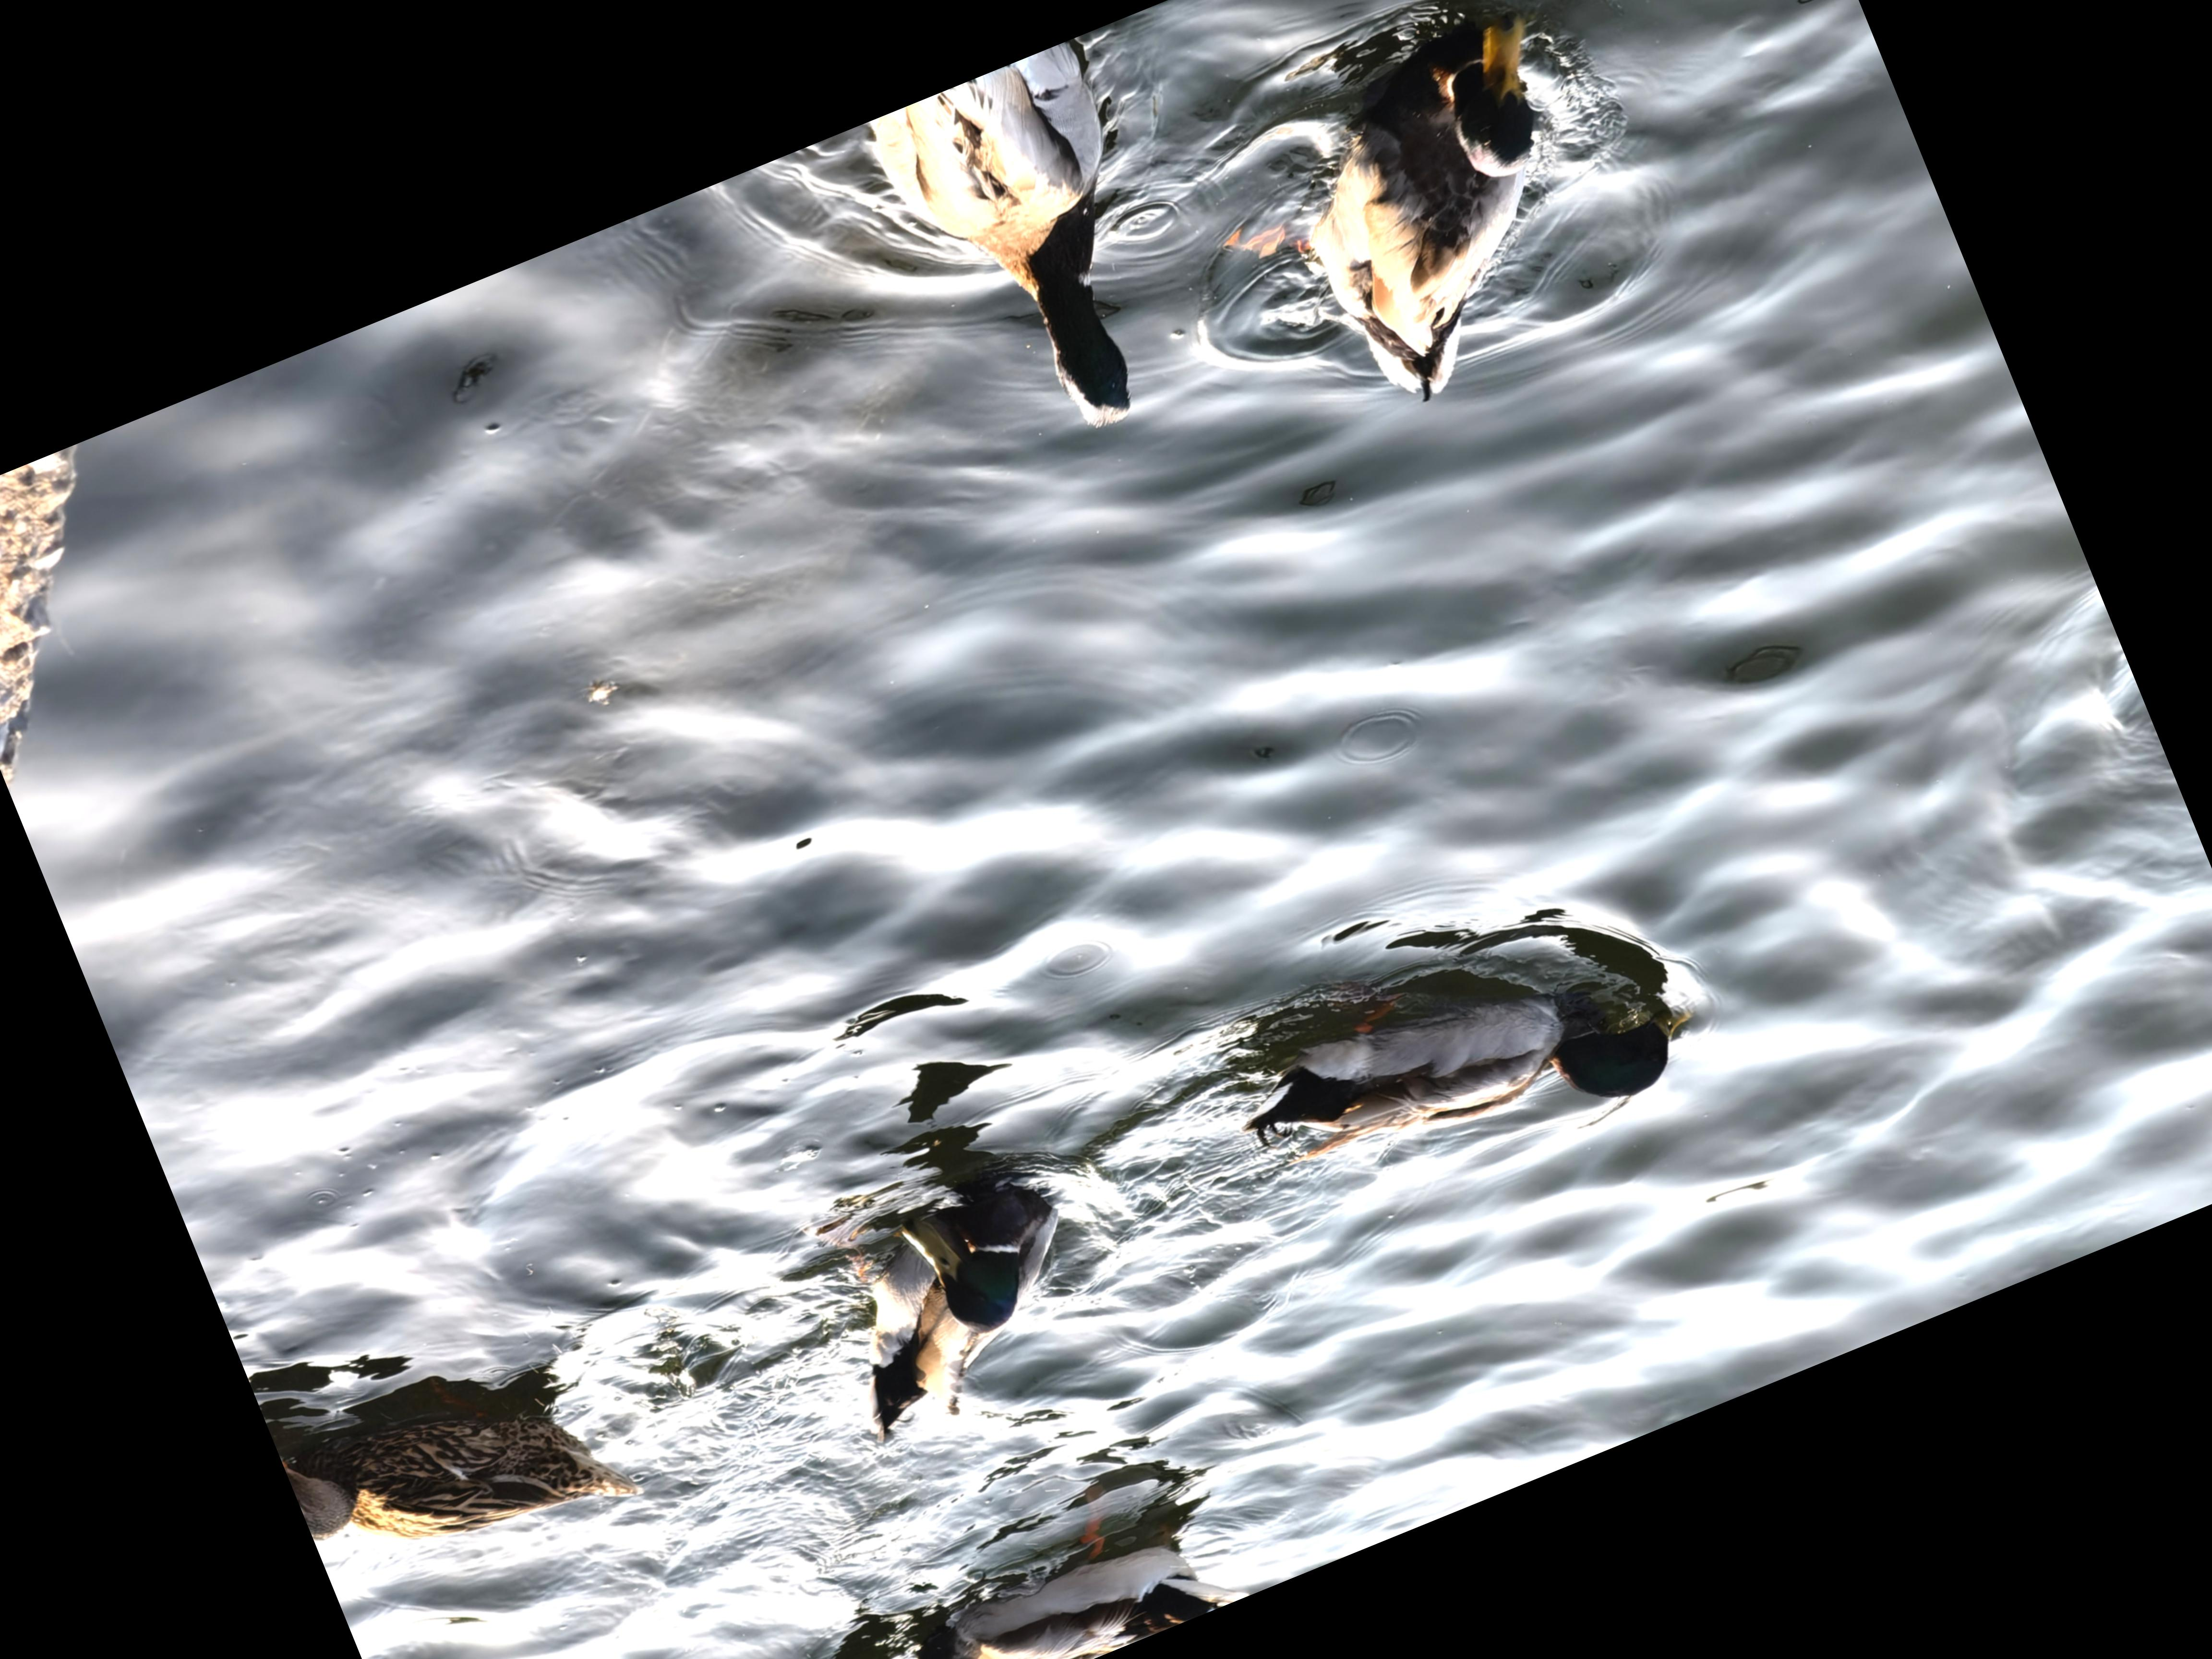duck: (1224, 0, 1691, 439), (824, 31, 1231, 497), (1224, 892, 1749, 1237), (272, 1307, 681, 1654), (780, 1157, 1130, 1464), (791, 1427, 1251, 1659)
